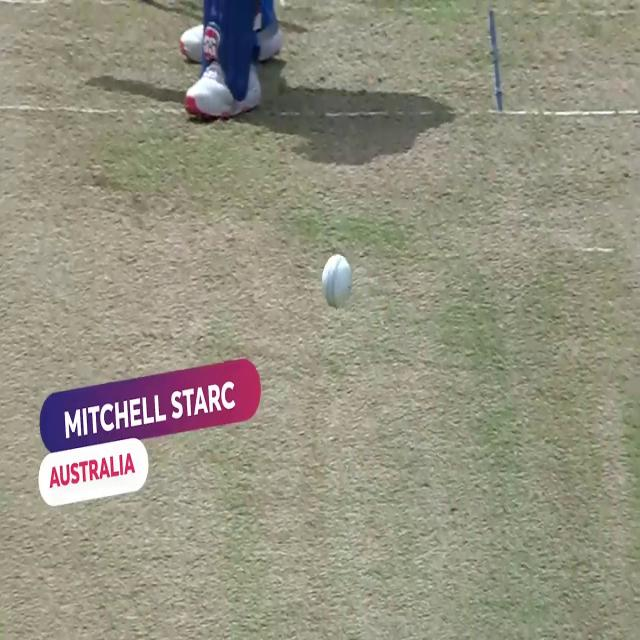ball: (320, 253, 356, 310)
